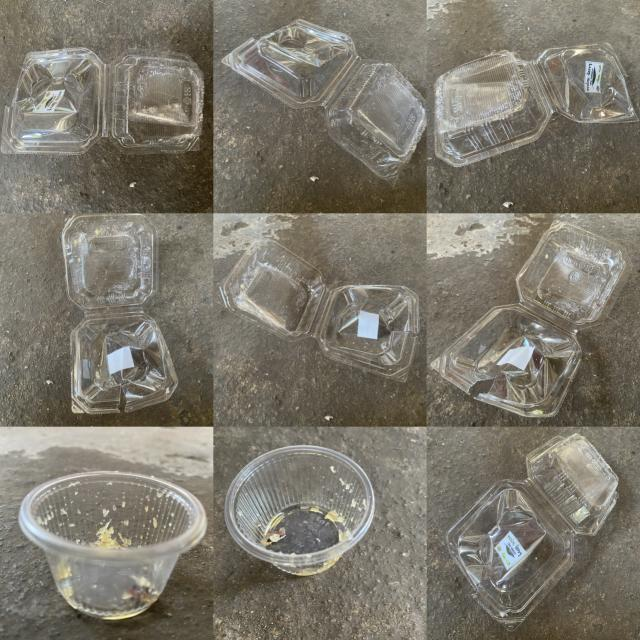Single-Use-Plastic: (431, 220, 632, 417), (221, 19, 426, 186), (446, 434, 619, 631), (220, 240, 420, 382), (19, 471, 206, 619), (435, 42, 638, 166), (61, 215, 178, 414), (1, 48, 204, 154), (225, 445, 374, 574)
